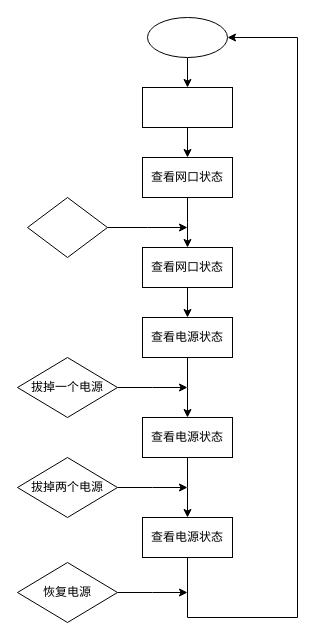
Some shapes in this 323 by 643 pixel diagram are drawn without their labels. Here are the shapes that lost their labels. From the top down, the centre of each, then its label:
At [187,37]: "登录".
At [187,107]: "查看系统状态".
At [67,227]: "拔掉网线".
